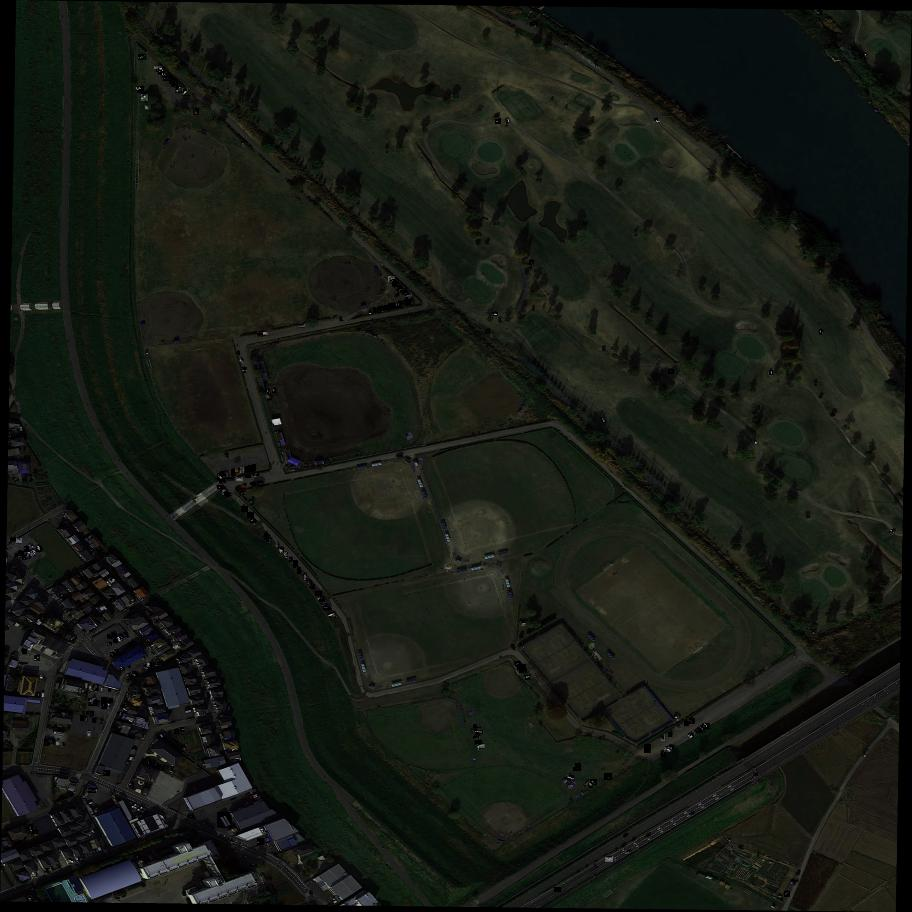large-vehicle: (217, 812, 232, 829), (88, 698, 98, 707), (48, 739, 55, 746), (45, 739, 51, 747), (104, 770, 111, 776), (653, 118, 660, 124), (568, 775, 575, 781), (117, 636, 123, 642), (754, 439, 760, 445), (496, 120, 502, 125), (89, 788, 95, 793), (94, 684, 98, 691), (769, 370, 774, 375), (602, 417, 607, 422), (529, 260, 534, 265), (492, 312, 498, 316), (56, 741, 60, 746), (819, 329, 822, 334), (506, 119, 510, 121), (891, 530, 894, 532), (794, 880, 795, 885), (90, 687, 92, 689)
small-vehicle: (183, 88, 191, 97), (604, 773, 612, 782), (644, 744, 651, 754), (34, 654, 41, 662), (28, 543, 35, 551), (142, 94, 149, 102), (176, 86, 183, 94), (231, 469, 238, 477), (591, 779, 598, 787), (518, 664, 526, 671), (138, 55, 147, 61), (164, 75, 173, 81), (388, 276, 395, 283), (226, 494, 233, 501), (217, 474, 224, 481), (132, 671, 139, 678), (676, 725, 683, 732), (689, 718, 696, 725), (665, 746, 672, 753), (109, 596, 116, 603), (28, 824, 35, 831), (297, 567, 303, 575), (328, 613, 336, 619), (193, 108, 199, 116), (248, 465, 254, 473), (169, 79, 177, 85), (519, 668, 527, 674), (573, 767, 581, 773), (251, 521, 258, 527), (247, 513, 254, 519), (241, 506, 248, 512), (16, 539, 23, 545), (113, 649, 120, 655), (36, 546, 42, 553), (141, 92, 148, 98), (668, 369, 675, 375), (703, 723, 710, 729), (698, 727, 704, 734), (689, 732, 695, 739), (161, 733, 167, 740), (258, 839, 265, 845), (102, 703, 108, 710), (101, 697, 107, 704), (514, 662, 521, 668), (864, 750, 869, 758), (24, 547, 30, 553), (700, 725, 706, 731), (784, 891, 790, 897), (817, 10, 823, 16), (393, 282, 399, 288), (575, 763, 581, 769), (555, 887, 561, 893), (279, 547, 284, 554), (315, 592, 322, 597), (111, 632, 116, 639), (19, 550, 24, 557), (137, 86, 144, 91), (695, 729, 700, 736), (84, 716, 89, 723), (173, 645, 180, 650), (405, 293, 412, 298), (406, 299, 411, 306), (388, 303, 393, 310), (293, 561, 298, 567), (144, 665, 150, 670), (22, 650, 28, 655), (107, 634, 113, 639), (26, 554, 31, 560), (28, 552, 34, 557), (31, 550, 36, 556), (218, 486, 224, 491), (245, 467, 250, 473), (272, 388, 277, 394), (661, 751, 666, 757), (669, 745, 674, 751), (391, 280, 397, 285), (32, 829, 37, 835), (127, 675, 132, 681), (398, 287, 404, 292), (174, 729, 179, 735), (69, 858, 74, 864), (303, 574, 307, 581), (662, 734, 666, 741), (606, 858, 613, 862), (400, 289, 407, 293), (377, 307, 381, 314), (863, 54, 868, 59), (16, 553, 21, 558), (121, 667, 126, 672), (111, 652, 116, 657), (146, 105, 151, 110), (225, 471, 230, 476), (240, 468, 245, 473), (669, 732, 674, 737), (180, 727, 185, 732), (90, 712, 95, 717), (321, 604, 327, 608), (309, 586, 315, 590), (264, 533, 268, 539), (250, 519, 256, 523), (124, 632, 128, 638), (23, 555, 27, 561), (685, 721, 689, 727), (588, 784, 594, 788), (87, 731, 91, 737), (398, 301, 402, 307), (525, 677, 531, 681), (474, 736, 480, 740), (475, 741, 482, 744), (478, 745, 485, 748), (108, 642, 112, 647), (172, 82, 177, 86), (258, 333, 263, 337), (238, 351, 242, 356), (81, 716, 85, 721), (240, 491, 245, 495), (32, 873, 37, 877), (137, 89, 143, 92), (237, 478, 243, 481), (188, 815, 194, 818), (224, 490, 228, 494), (113, 639, 117, 643), (222, 472, 226, 476), (154, 67, 162, 69), (130, 757, 134, 761), (276, 542, 279, 547), (269, 539, 272, 544), (266, 537, 269, 542), (147, 664, 152, 667), (132, 642, 135, 647), (300, 324, 305, 327), (37, 692, 40, 697), (60, 595, 65, 598), (132, 747, 137, 750), (323, 607, 330, 609), (162, 74, 169, 76), (531, 23, 538, 25), (474, 725, 481, 727), (224, 493, 230, 495), (128, 643, 131, 647), (120, 635, 124, 638), (116, 638, 119, 642), (220, 480, 224, 483), (158, 72, 164, 74), (266, 390, 269, 394), (395, 303, 398, 307), (392, 304, 395, 308), (380, 306, 383, 310), (374, 307, 376, 313), (258, 481, 263, 483), (243, 368, 245, 373), (156, 70, 161, 72), (395, 285, 400, 287), (308, 581, 311, 584), (285, 553, 288, 556), (240, 359, 243, 362), (46, 869, 49, 872), (155, 764, 158, 767), (241, 484, 245, 486), (11, 538, 15, 540), (255, 473, 259, 475), (253, 465, 255, 469), (264, 333, 268, 335), (93, 719, 95, 723), (110, 698, 112, 702), (106, 698, 108, 702), (97, 701, 99, 705), (319, 600, 325, 601), (317, 598, 323, 599), (290, 558, 292, 561), (245, 476, 251, 477), (236, 469, 238, 472), (130, 784, 133, 786), (41, 676, 43, 679), (150, 761, 152, 764), (251, 865, 257, 866), (385, 306, 387, 309), (476, 732, 482, 733), (227, 479, 232, 480), (102, 687, 103, 692), (118, 713, 123, 714), (791, 880, 793, 882), (321, 859, 325, 860), (63, 742, 64, 746), (471, 730, 475, 731), (871, 600, 874, 601), (87, 712, 88, 715), (253, 483, 255, 484), (109, 689, 110, 691), (108, 705, 110, 706)
